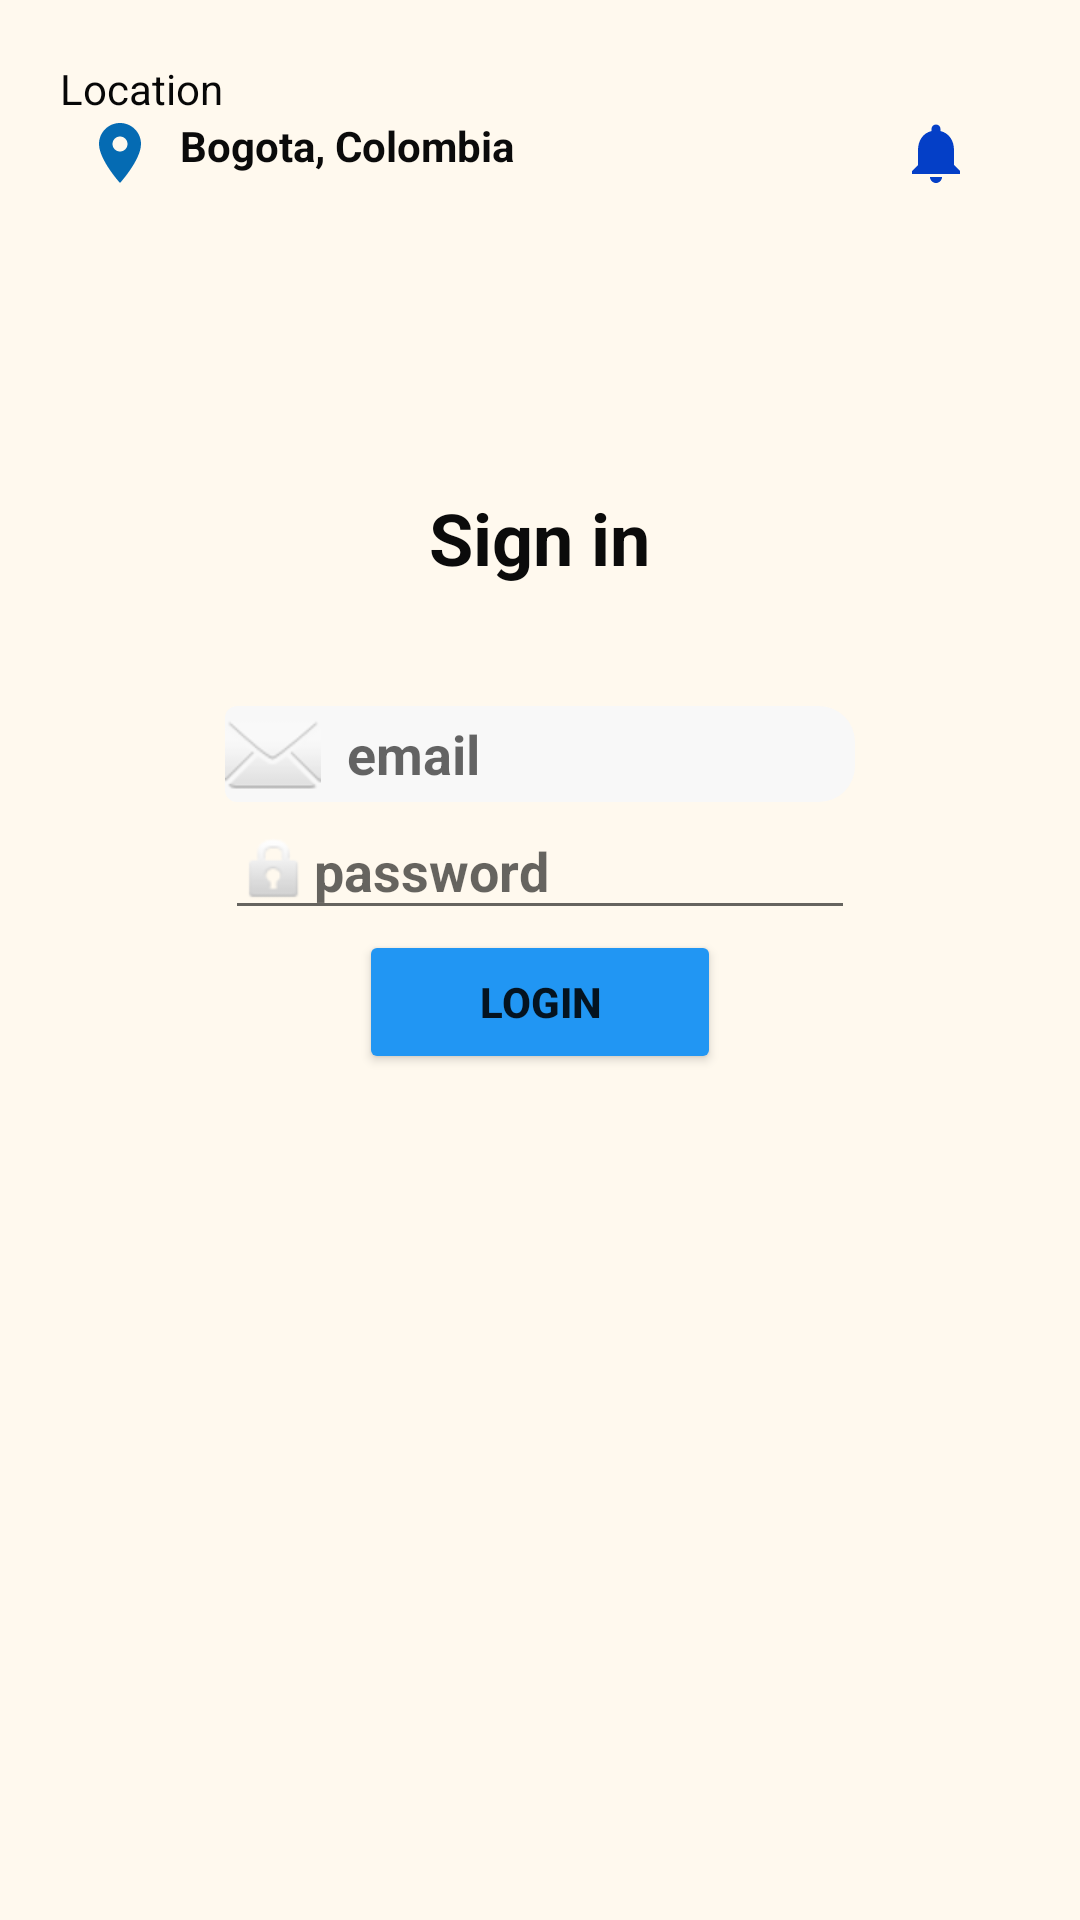

Icons on this 1080w x 1920h Android screen, each with the point to tap as [x,y]:
notifications: [936,153]
